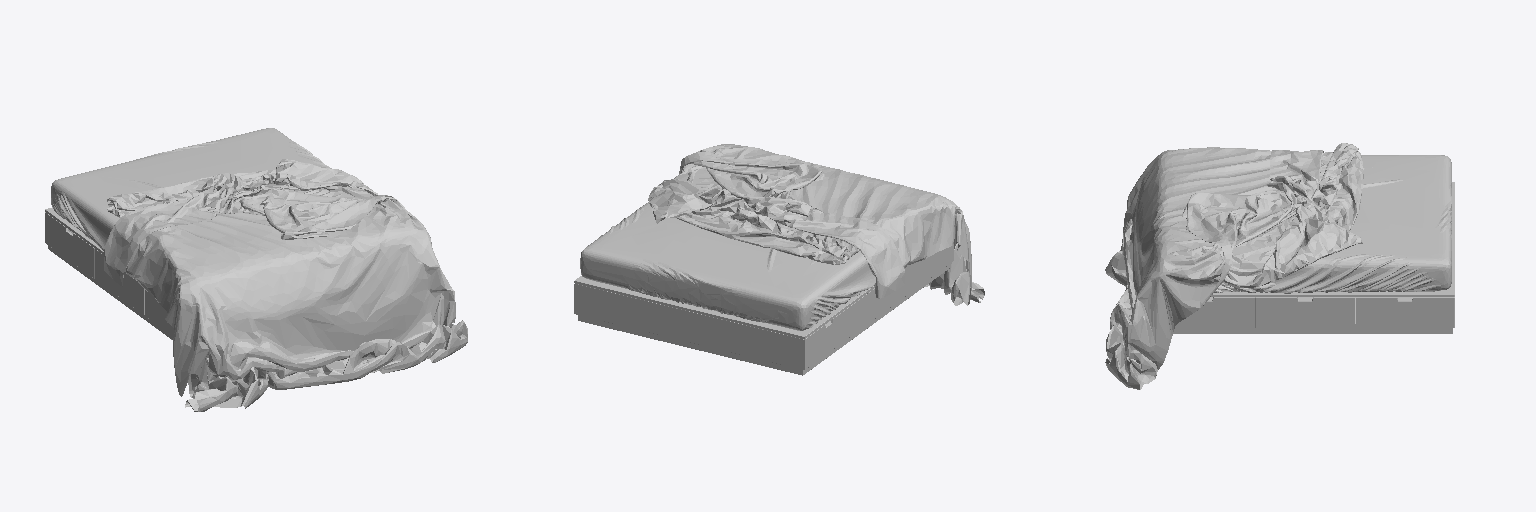
Rendered from BedNoPillows.obj.
3 views of the same model, side by side, from view 1: azimuth 30°, elevation 25°; view 2: azimuth 150°, elevation 25°; view 3: azimuth 270°, elevation 25° (orthographic).
Visible parts, largest first — view 1: Nordli_Cover_Low_BedNordli_Cover_Low, Nordli_Sheet_Low_BedNordli_Sheets_Low, Nordli_Comforter_Low_BedNordli_Comforter_Low_001, Nordli_Frame_Low_Cube_002; view 2: Nordli_Cover_Low_BedNordli_Cover_Low, Nordli_Sheet_Low_BedNordli_Sheets_Low, Nordli_Frame_Low_Cube_002, Nordli_Comforter_Low_BedNordli_Comforter_Low_001; view 3: Nordli_Cover_Low_BedNordli_Cover_Low, Nordli_Sheet_Low_BedNordli_Sheets_Low, Nordli_Frame_Low_Cube_002, Nordli_Comforter_Low_BedNordli_Comforter_Low_001.
Boxes of the visible parts, x1,y1,x2,y2 form: Nordli_Cover_Low_BedNordli_Cover_Low: [104, 187, 467, 411]; Nordli_Sheet_Low_BedNordli_Sheets_Low: [51, 128, 328, 250]; Nordli_Comforter_Low_BedNordli_Comforter_Low_001: [107, 159, 377, 217]; Nordli_Frame_Low_Cube_002: [45, 207, 174, 339]; Nordli_Cover_Low_BedNordli_Cover_Low: [679, 144, 984, 305]; Nordli_Sheet_Low_BedNordli_Sheets_Low: [580, 202, 875, 330]; Nordli_Frame_Low_Cube_002: [574, 244, 953, 375]; Nordli_Comforter_Low_BedNordli_Comforter_Low_001: [648, 164, 859, 264]; Nordli_Cover_Low_BedNordli_Cover_Low: [1105, 147, 1323, 389]; Nordli_Sheet_Low_BedNordli_Sheets_Low: [1214, 155, 1451, 293]; Nordli_Frame_Low_Cube_002: [1173, 182, 1454, 333]; Nordli_Comforter_Low_BedNordli_Comforter_Low_001: [1221, 143, 1363, 287].
Size of the model in its own units: 2.22 by 0.9875 by 2.36.